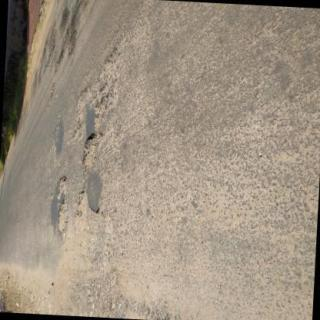pothole: (85, 52, 125, 135), (66, 87, 90, 145), (57, 177, 73, 241), (85, 135, 101, 173)
